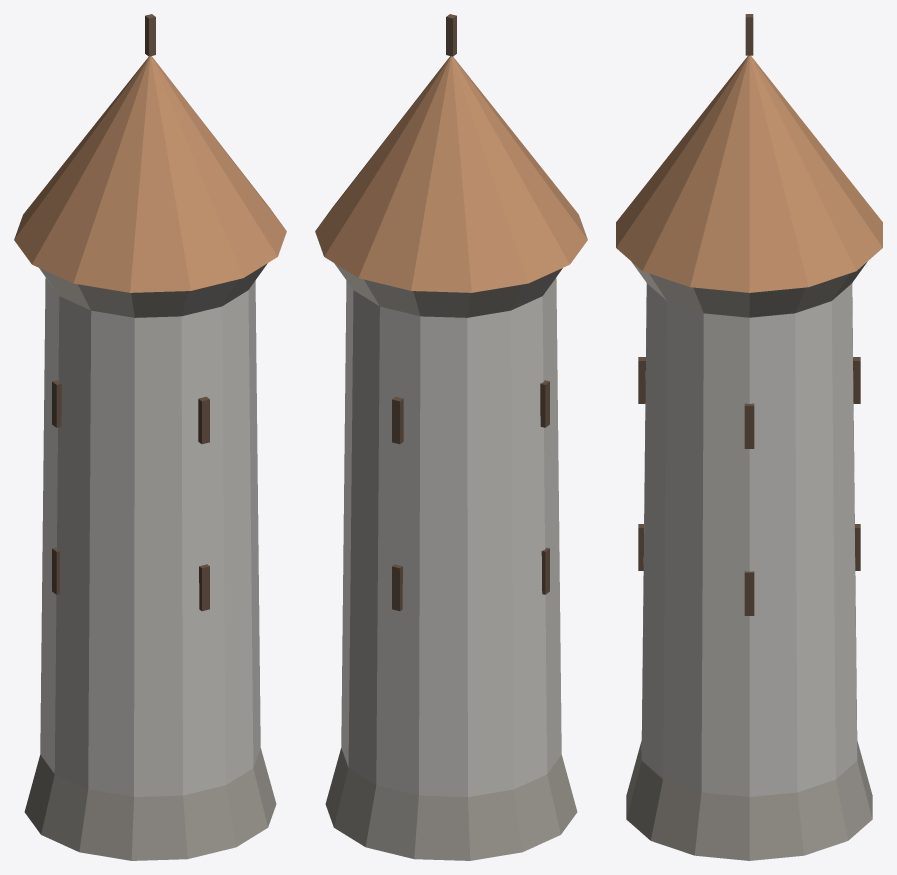
The model's file is tower_small.glb.
The picture shows the model from 3 angles, left to right: view 1: azimuth 30°, elevation 25°; view 2: azimuth 150°, elevation 25°; view 3: azimuth 270°, elevation 25°; orthographic projection.
Bounding box in the file's own units: 5.2 × 16.6 × 5.07.
